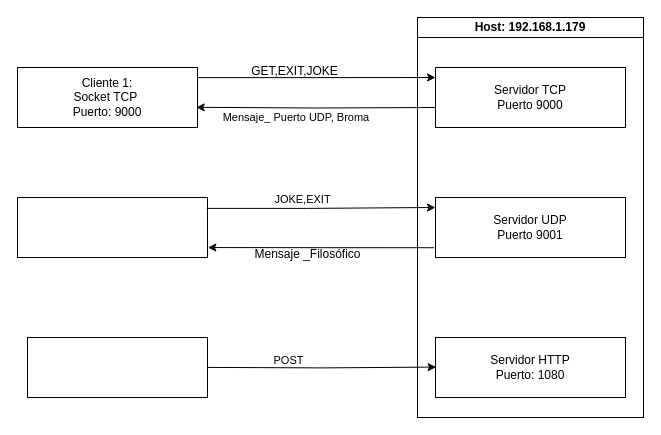
This 661x435 diagram has some shape labels left out. Each missing label, with the box of its shape:
Cliente 2: Socket UDP Puerto: 9001: (16, 196, 208, 258)
Cliente 3: Socket TCP/HTTP Puerto: 1080: (26, 336, 208, 398)
